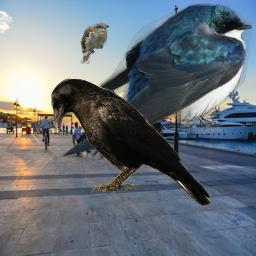Crow: (51, 78, 213, 207)
Cuckoo: (80, 22, 109, 64)
Swallow: (33, 2, 252, 160)
